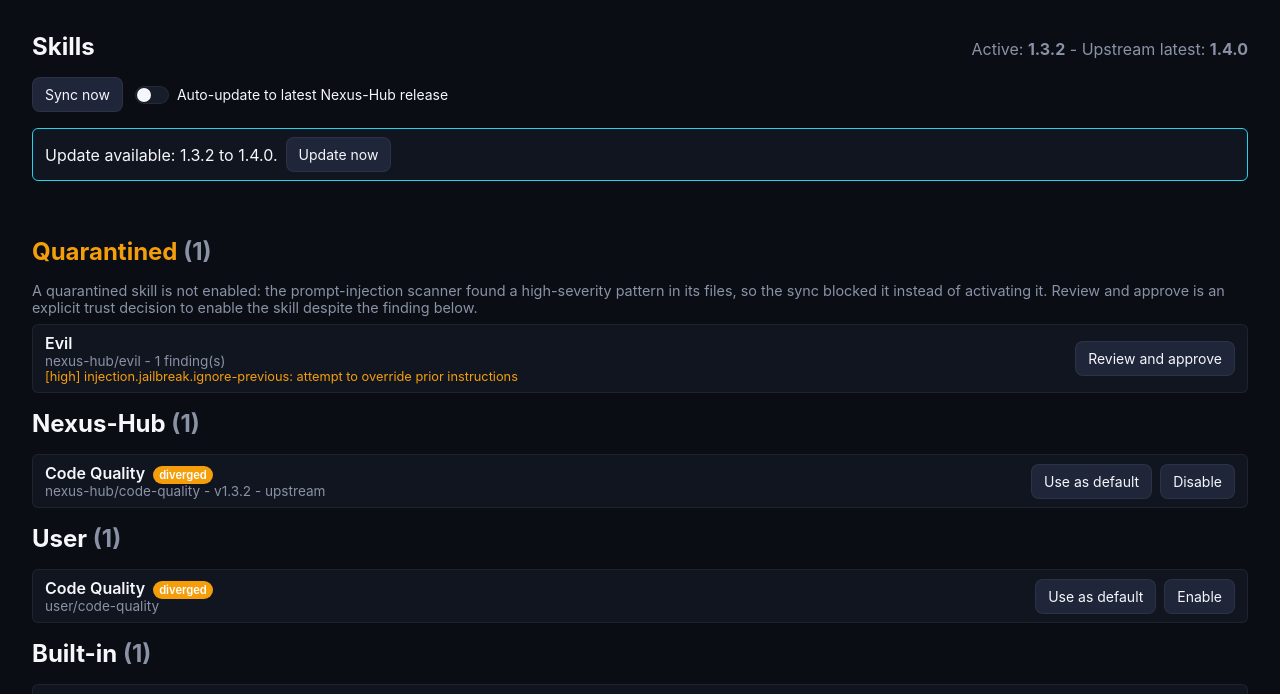
SkillsSettings › maps sidecar response timeout during Update now to Hub fetch copy
Step 1. Click the button with test id "skills-sync-now" → (77, 94), box top-left (32, 77), bottom-right (123, 112)
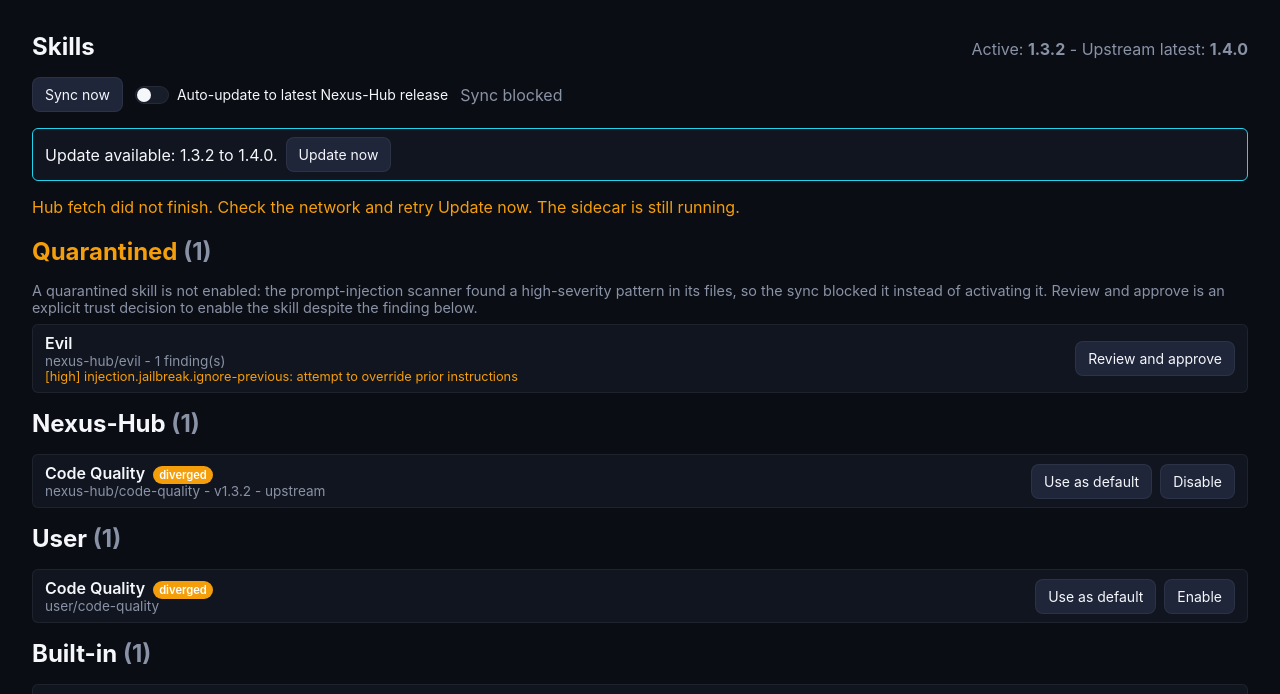
Check: the message shows "Hub fetch did not finish", box top-left (32, 197), bottom-right (740, 217)
